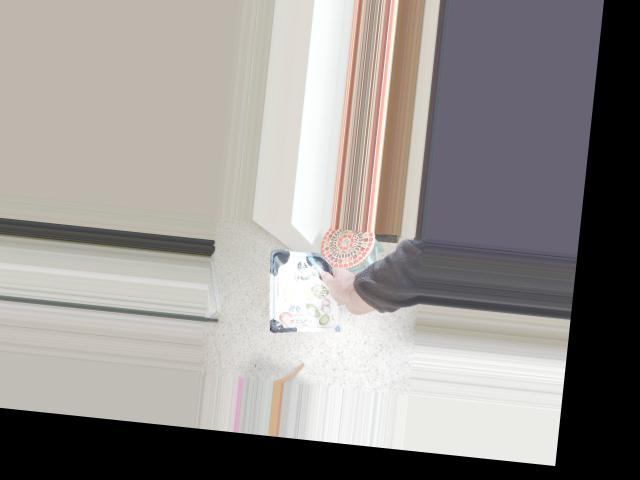cheese: (280, 251, 372, 341)
